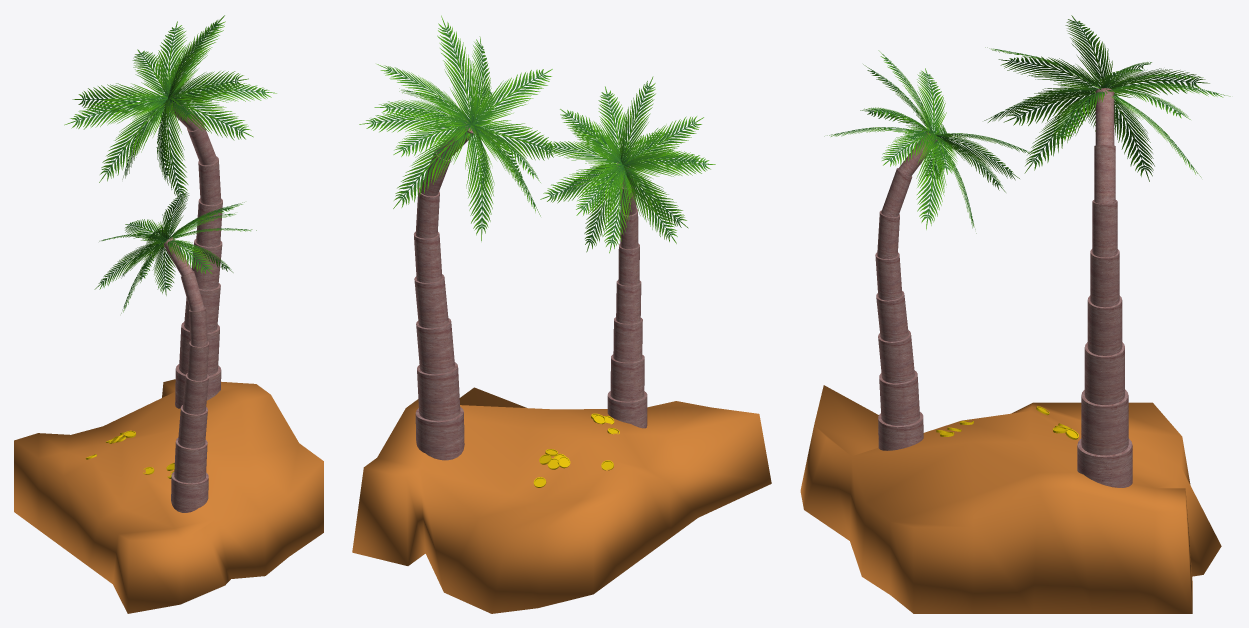
Rendered from Palms.fbx.
3 views of the same model, side by side, from view 1: azimuth 30°, elevation 25°; view 2: azimuth 150°, elevation 25°; view 3: azimuth 270°, elevation 25° (orthographic). The views are drawn at different scales.
Parts seen in each view (by area): view 1: Cube, Cylinder.001, Cylinder, Plane.014, Plane.011, Plane, Plane.007, Plane.001, Plane.010, Plane.015, Plane.008, Plane.005 (+9 smaller); view 2: Cube, Cylinder, Cylinder.001, Plane.003, Plane.012, Plane.013, Plane.002, Plane.006, Plane.028, Plane.022, Plane.023, Plane.027 (+16 smaller); view 3: Cube, Cylinder, Cylinder.001, Plane.007, Plane.002, Plane.019, Plane.012, Plane.001, Plane.006, Plane.010, Plane.026, Plane.029 (+4 smaller).
Part boxes in pixels (left/top/right/bottom): Cube: left=14, top=379, right=323, bottom=613; Cylinder.001: left=163, top=237, right=208, bottom=512; Cylinder: left=168, top=94, right=222, bottom=408; Plane.014: left=64, top=92, right=167, bottom=129; Plane.011: left=99, top=100, right=168, bottom=182; Plane: left=171, top=96, right=253, bottom=140; Plane.007: left=169, top=71, right=248, bottom=106; Plane.001: left=158, top=100, right=188, bottom=201; Plane.010: left=72, top=83, right=167, bottom=116; Plane.015: left=155, top=21, right=186, bottom=96; Plane.008: left=167, top=15, right=225, bottom=95; Plane.005: left=177, top=81, right=276, bottom=103; Cube: left=352, top=387, right=771, bottom=613; Cylinder: left=414, top=121, right=474, bottom=460; Cylinder.001: left=607, top=161, right=647, bottom=428; Plane.003: left=393, top=129, right=470, bottom=208; Plane.012: left=437, top=15, right=477, bottom=124; Plane.013: left=472, top=69, right=552, bottom=126; Plane.002: left=465, top=127, right=494, bottom=241; Plane.006: left=473, top=120, right=560, bottom=160; Plane.028: left=619, top=76, right=655, bottom=164; Plane.022: left=624, top=165, right=688, bottom=228; Plane.023: left=624, top=116, right=703, bottom=167; Plane.027: left=603, top=167, right=633, bottom=253; Cube: left=800, top=385, right=1221, bottom=613; Cylinder: left=1077, top=88, right=1132, bottom=487; Cylinder.001: left=875, top=132, right=936, bottom=450; Plane.007: left=998, top=56, right=1101, bottom=92; Plane.002: left=1114, top=97, right=1154, bottom=181; Plane.019: left=916, top=141, right=946, bottom=229; Plane.012: left=1065, top=15, right=1112, bottom=88; Plane.001: left=1024, top=95, right=1095, bottom=173; Plane.006: left=1003, top=84, right=1096, bottom=125; Plane.010: left=1112, top=68, right=1209, bottom=97; Plane.026: left=936, top=134, right=1019, bottom=180; Plane.029: left=917, top=68, right=946, bottom=133.
Bounding box in the file's own units: 1277 × 1573 × 2389.
